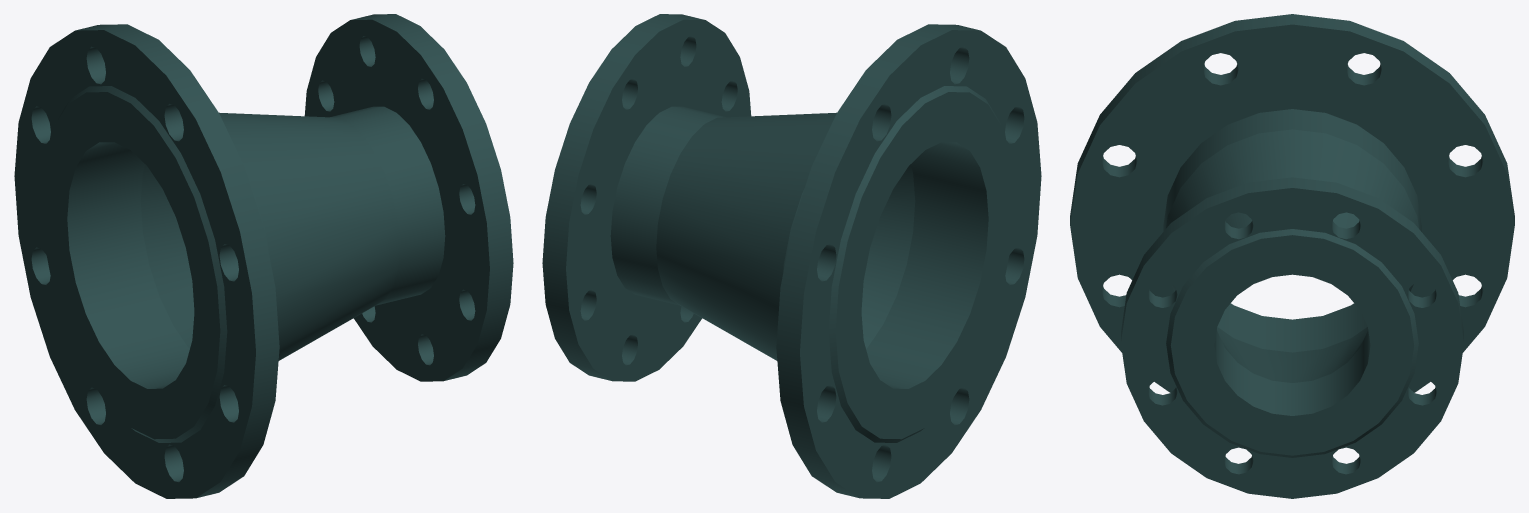
File: DFRED.glb
3 renders of one model, left to right at view 1: azimuth 30°, elevation 25°; view 2: azimuth 150°, elevation 25°; view 3: azimuth 270°, elevation 25°, orthographic. The views are drawn at different scales.
Parts seen in each view (by area): view 1: RFFFR-15100200FL16EET(400); view 2: RFFFR-15100200FL16EET(400); view 3: RFFFR-15100200FL16EET(400).
Boxes of the visible parts, <box> form: RFFFR-15100200FL16EET(400): <box>14,14,513,498</box>; RFFFR-15100200FL16EET(400): <box>542,14,1041,498</box>; RFFFR-15100200FL16EET(400): <box>1070,14,1514,498</box>.
Bounding box in the file's own units: 0.2 × 0.285 × 0.285.
